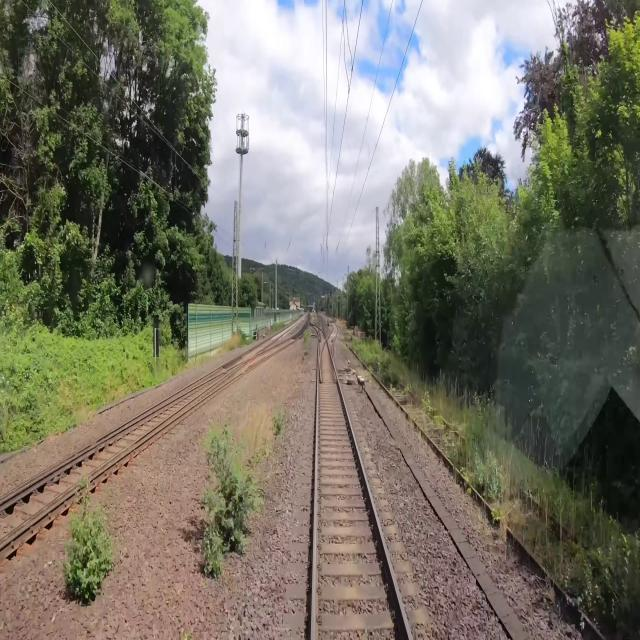Plant: (406, 387, 639, 639), (198, 403, 286, 577), (60, 494, 114, 601), (350, 333, 420, 399), (319, 321, 339, 382), (531, 567, 555, 603), (309, 323, 324, 340), (302, 349, 309, 362), (304, 331, 309, 343)
